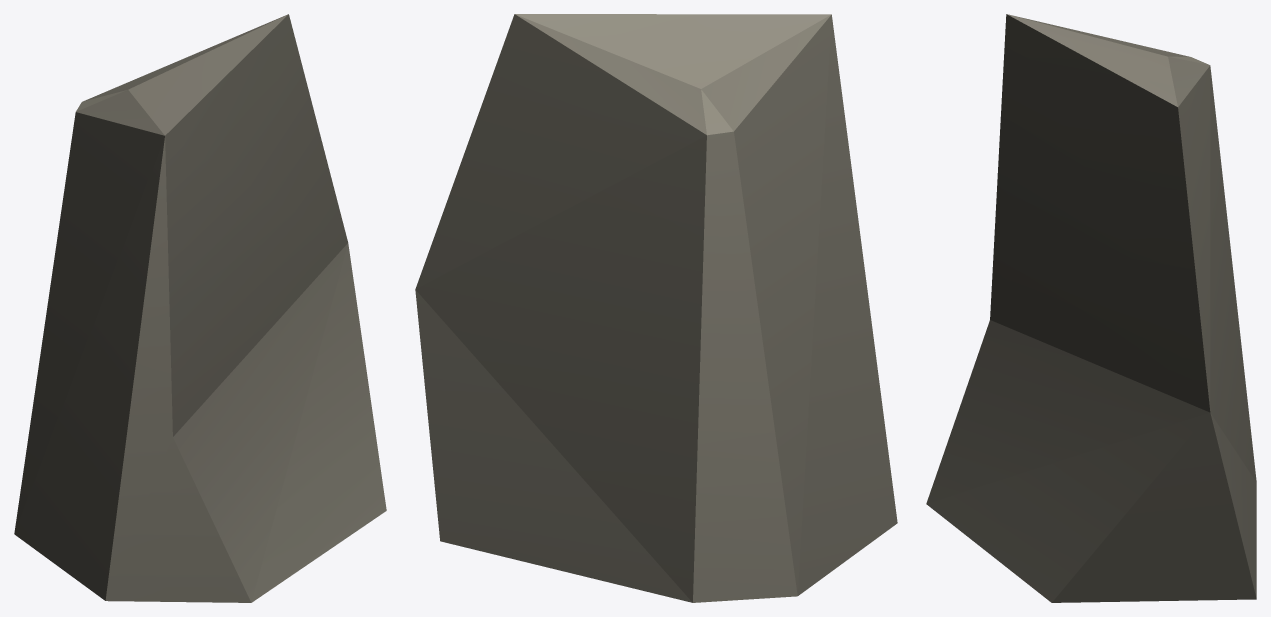
Rendered from Rock_Small_1C.fbx.
3 renders of one model, left to right at view 1: azimuth 30°, elevation 25°; view 2: azimuth 150°, elevation 25°; view 3: azimuth 270°, elevation 25°, orthographic. The views are drawn at different scales.
Visible parts, largest first — view 1: Rock_Small_1C; view 2: Rock_Small_1C; view 3: Rock_Small_1C.
Boxes of the visible parts, bbox=[...] form: Rock_Small_1C: bbox=[14, 14, 386, 602]; Rock_Small_1C: bbox=[415, 14, 897, 602]; Rock_Small_1C: bbox=[926, 14, 1256, 602].
Bounding box in the file's own units: 0.6833 × 0.8812 × 0.5535.
